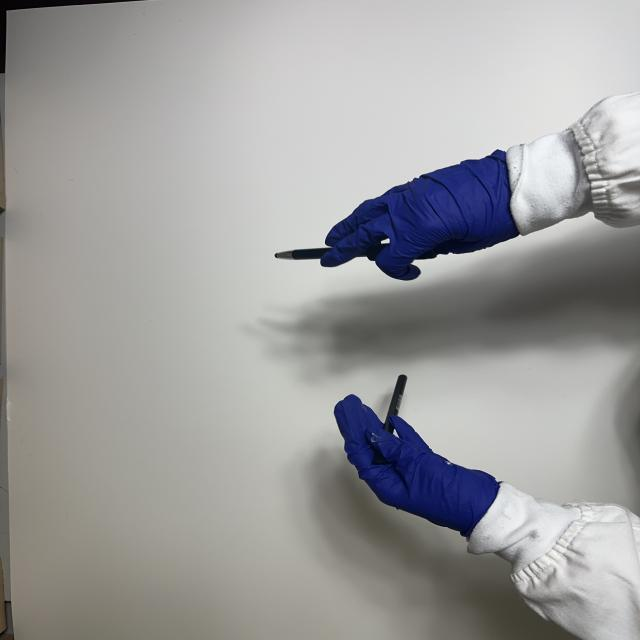gloves_contaminated: (321, 150, 519, 280), (334, 396, 500, 536)
